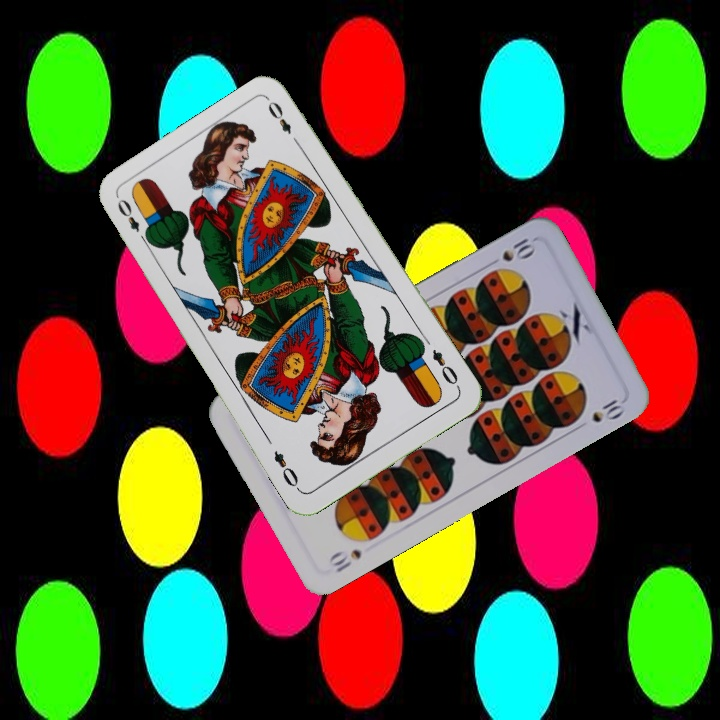EO: (113, 194, 153, 247), (428, 345, 463, 391)
S10: (483, 231, 539, 270), (325, 545, 365, 576)
